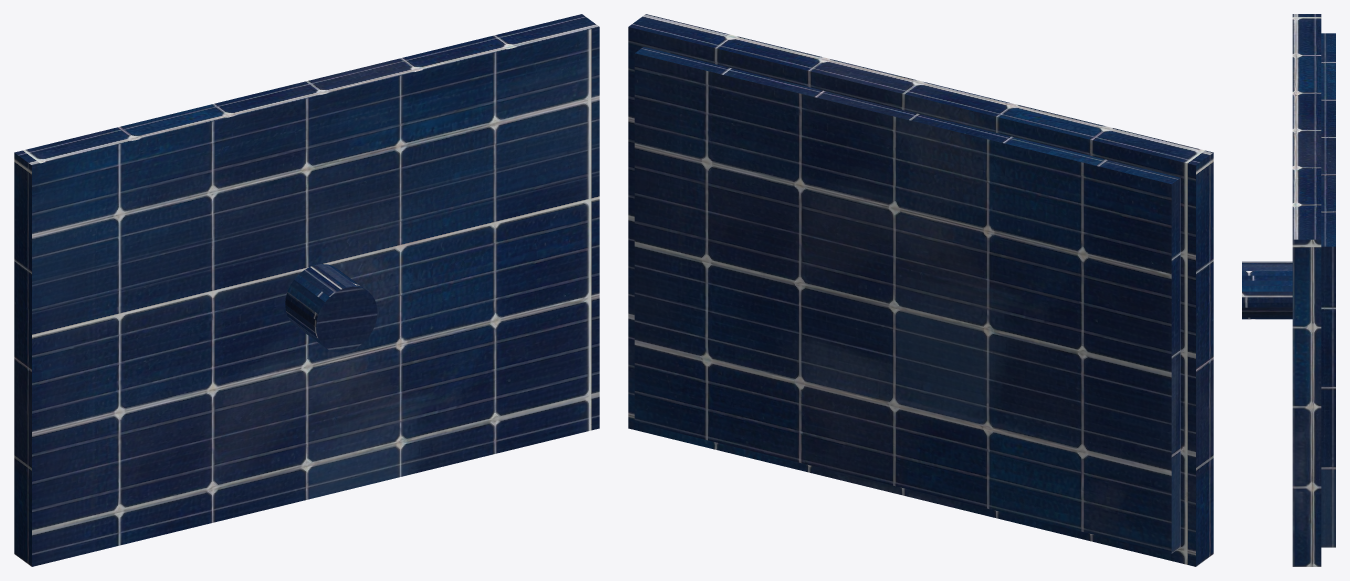
File: solar_panel.glb
The picture shows the model from 3 angles, left to right: view 1: azimuth 30°, elevation 25°; view 2: azimuth 150°, elevation 25°; view 3: azimuth 270°, elevation 25°; orthographic projection. The views are drawn at different scales.
Parts seen in each view (by area): view 1: Cube; view 2: Cube; view 3: Cube.
Boxes of the visible parts, x1,y1,x2,y2 form: Cube: [14, 14, 599, 566]; Cube: [628, 14, 1213, 566]; Cube: [1242, 14, 1335, 566].
Bounding box in the file's own units: 0.37 × 0.25 × 0.065.
1 material, 1 textured.
